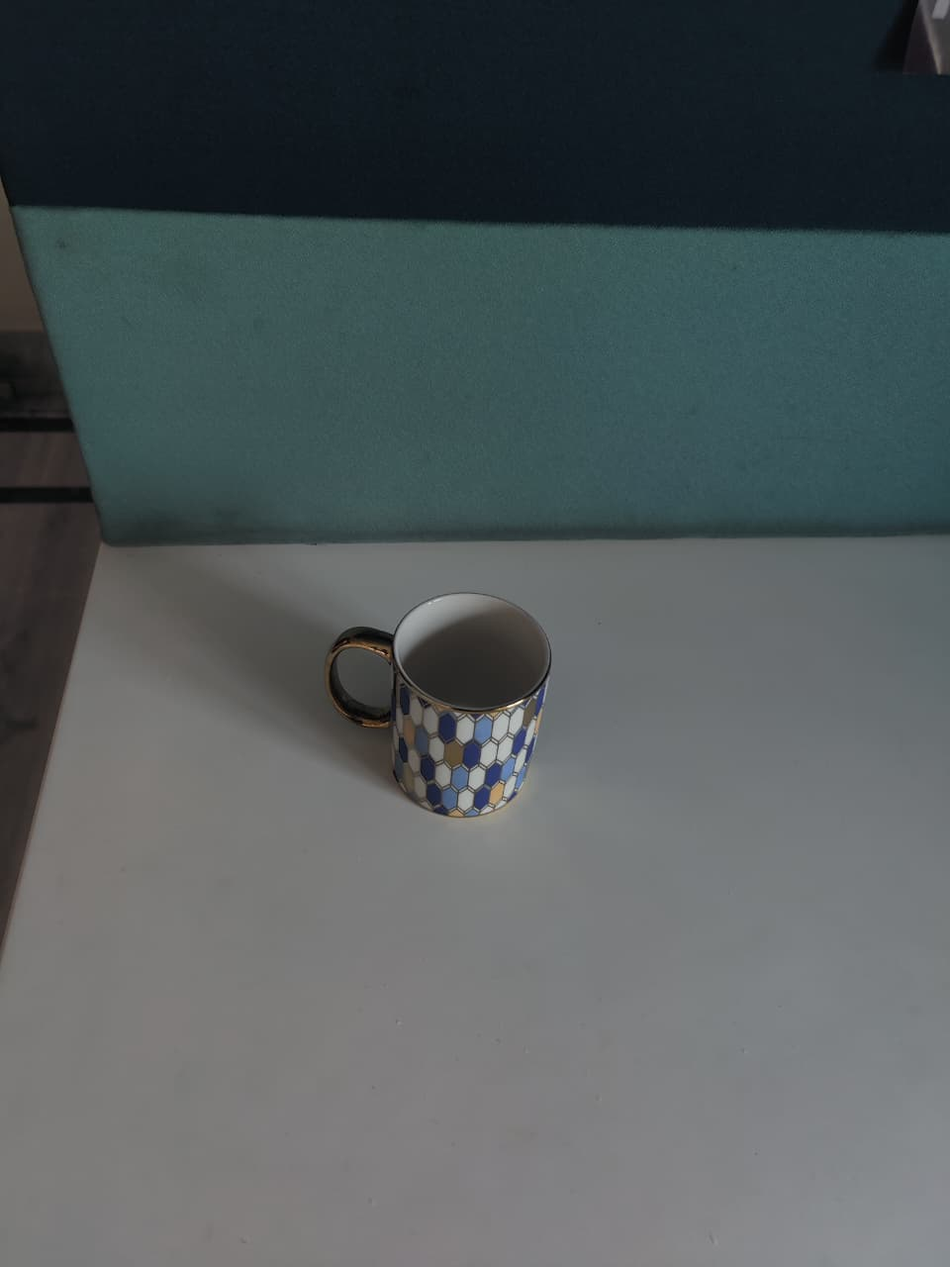cup: (325, 593, 552, 821)
